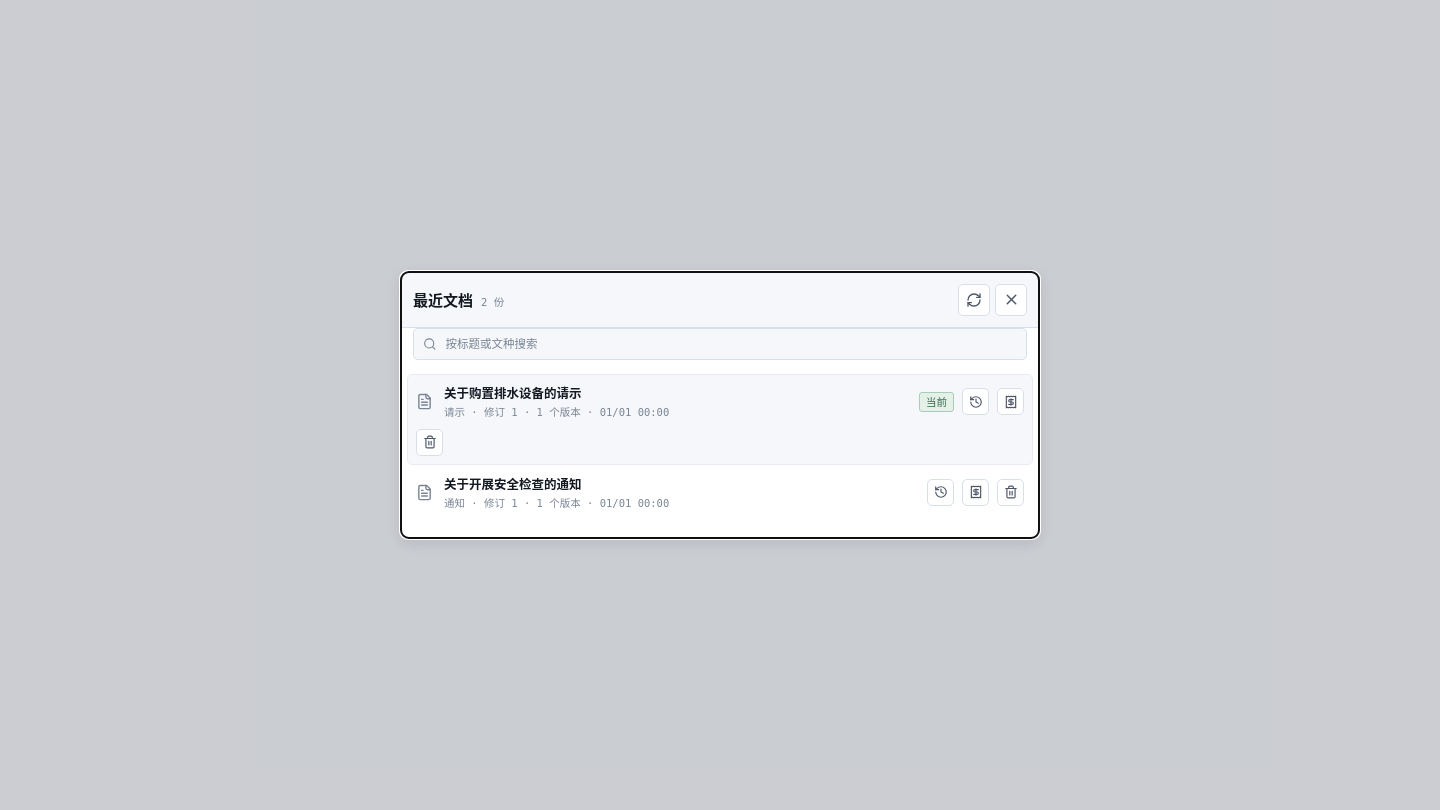
DocumentLibrary › filters documents by title and type
This screenshot has width=1440, height=810.
Expected: the text "关于购置排水设备的请示" is shown, top-left (444, 383), bottom-right (582, 402)
Type "请示" into the field named "搜索文档" at (730, 344), box top-left (444, 334), bottom-right (1017, 354)
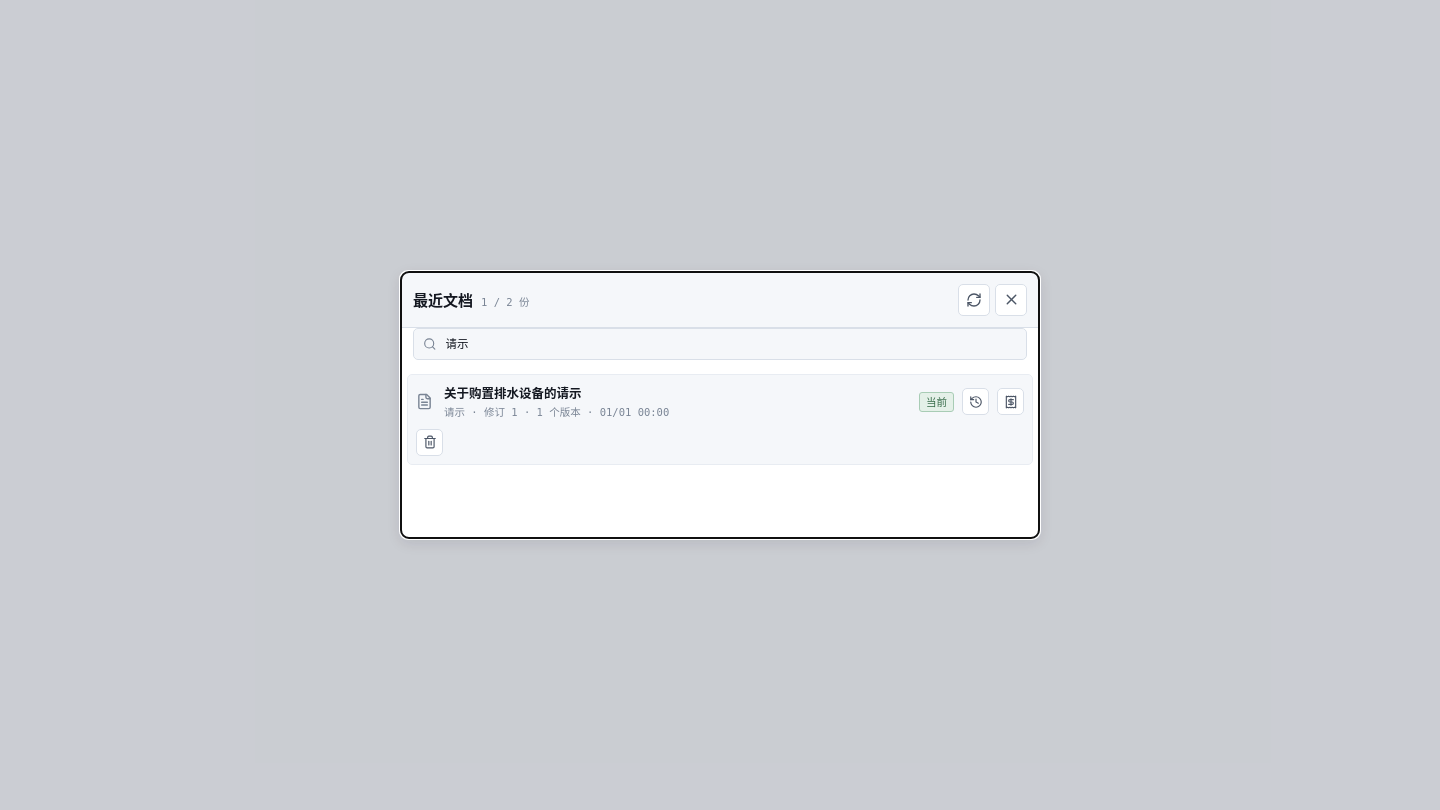
Expected: the text "关于购置排水设备的请示" is shown, top-left (444, 383), bottom-right (582, 402)
Result: the button "关于开展安全检查的通知" is gone
Replace the text in the field named "搜索文档" with "通知" at (730, 344), box top-left (444, 334), bottom-right (1017, 354)
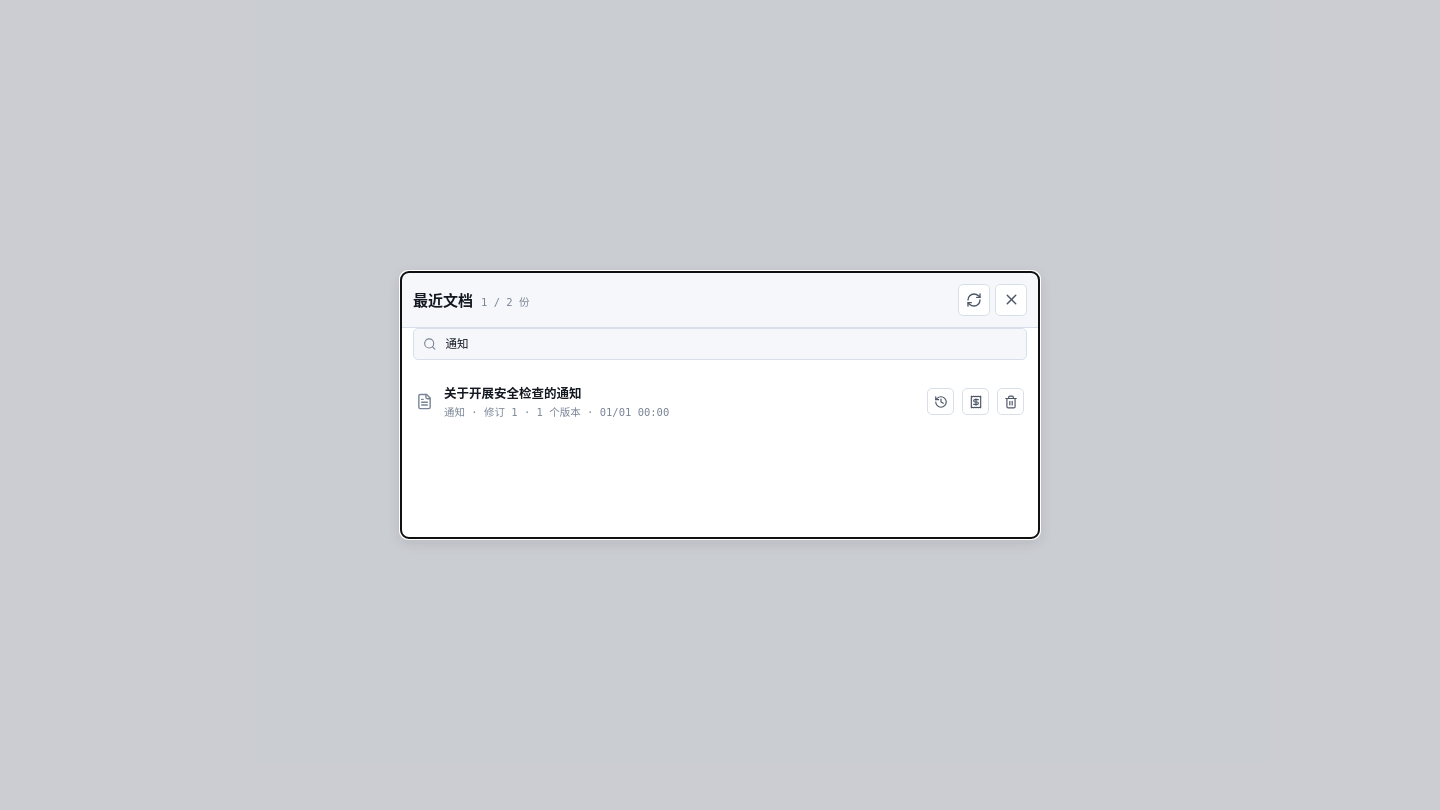
Result: the button "关于购置排水设备的请示" is gone
Result: the text "关于开展安全检查的通知" is shown at top-left (444, 383), bottom-right (582, 402)
Replace the text in the field named "搜索文档" with "不存在" at (730, 344), box top-left (444, 334), bottom-right (1017, 354)
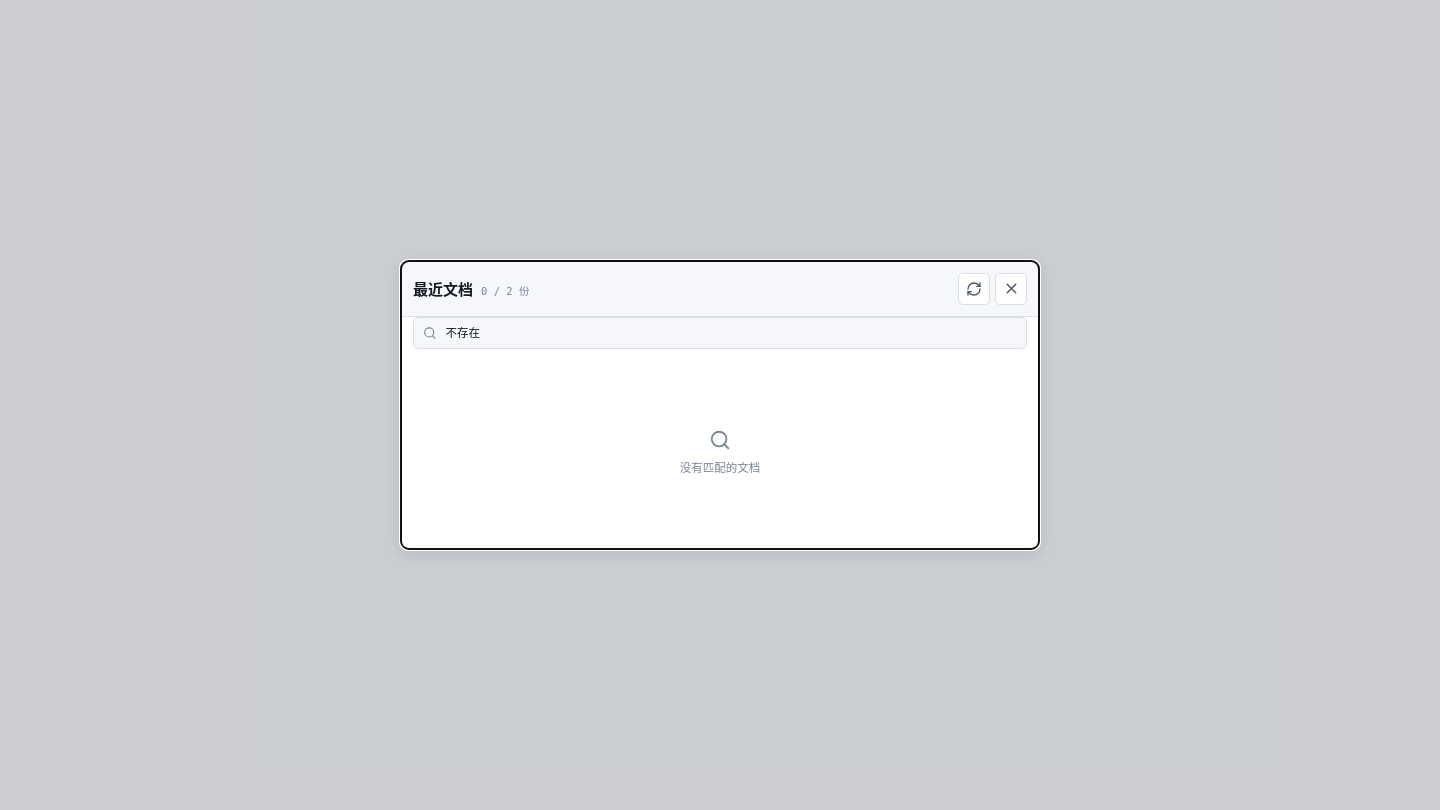
Result: the text "没有匹配的文档" is shown at top-left (680, 459), bottom-right (760, 477)
